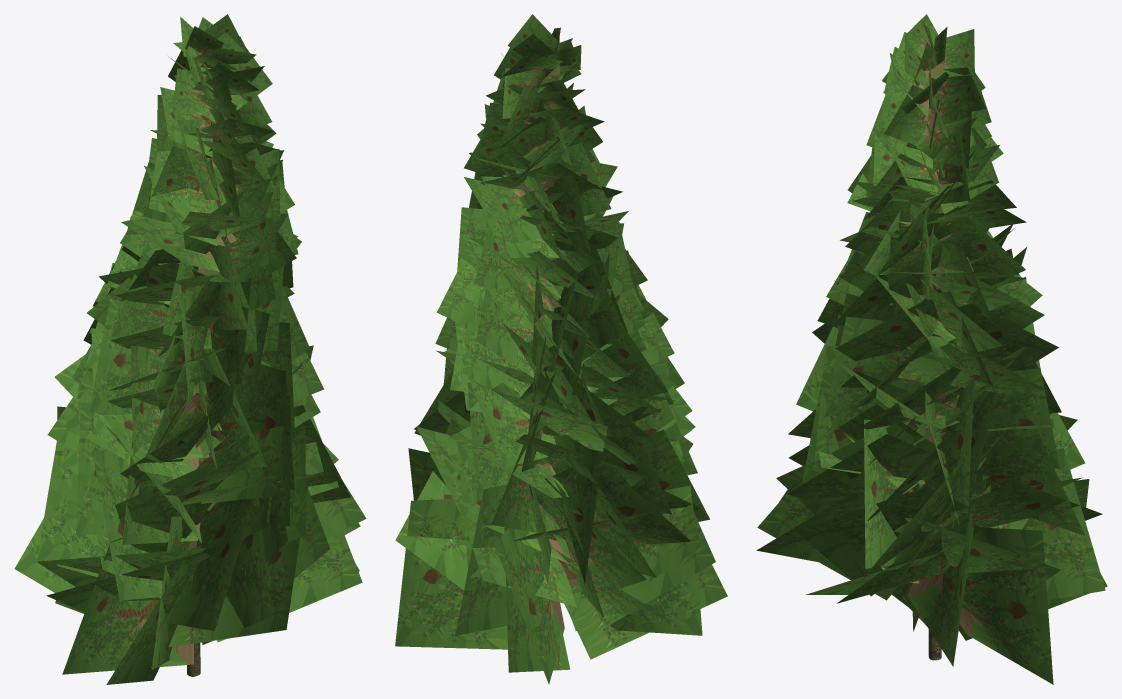
Rendered from tree1.glb.
3 views of the same model, side by side, from view 1: azimuth 30°, elevation 25°; view 2: azimuth 150°, elevation 25°; view 3: azimuth 270°, elevation 25° (orthographic). The views are drawn at different scales.
Visible parts, largest first — view 1: Tree-2; view 2: Tree-2; view 3: Tree-2.
Boxes of the visible parts, x1=… form: Tree-2: x1=14, y1=14, x2=366, y2=684; Tree-2: x1=395, y1=14, x2=727, y2=684; Tree-2: x1=756, y1=14, x2=1107, y2=684.
Size of the model in its own units: 0.7955 by 1.68 by 0.8277.
Materials: 2 (2 with a texture image).
